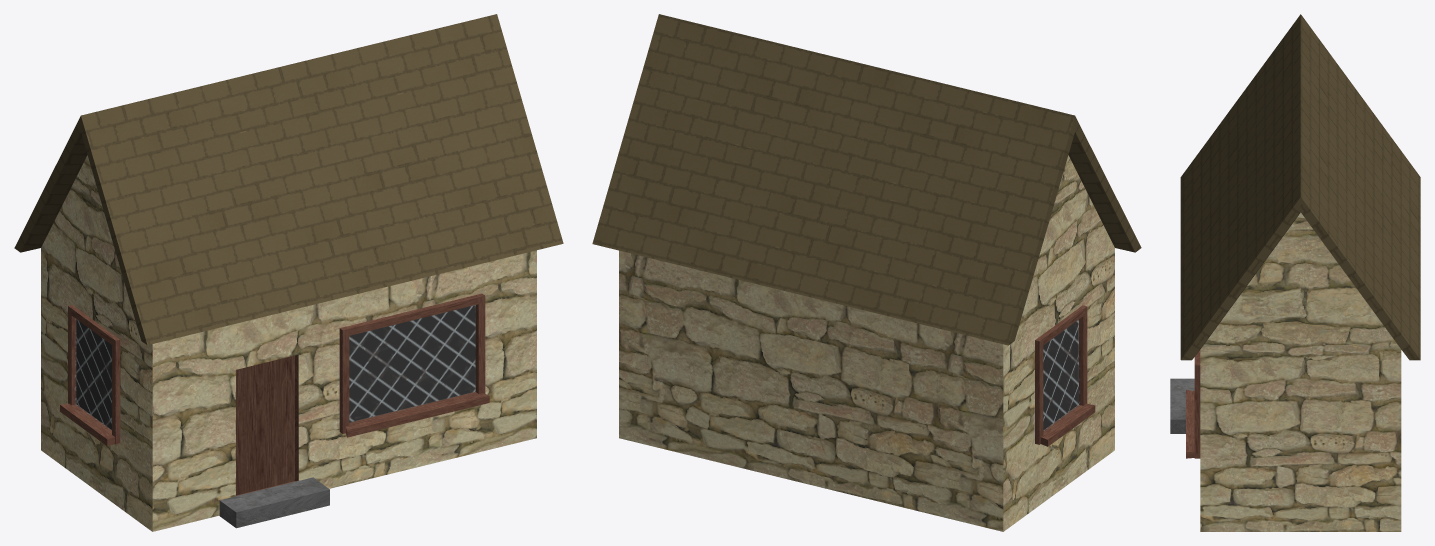
The model's file is house.obj.
3 views of the same model, side by side, from view 1: azimuth 30°, elevation 25°; view 2: azimuth 150°, elevation 25°; view 3: azimuth 270°, elevation 25° (orthographic). The views are drawn at different scales.
Visible parts, largest first — view 1: Cube.001; view 2: Cube.001; view 3: Cube.001.
Boxes of the visible parts, <box> form: Cube.001: <box>14,14,563,531</box>; Cube.001: <box>592,14,1141,531</box>; Cube.001: <box>1170,14,1420,531</box>.
Size of the model in its own units: 8.61 by 7.51 by 4.98.
